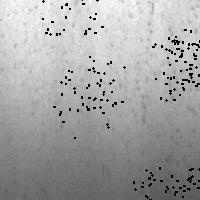pitted_surface: (4, 2, 130, 111), (136, 2, 198, 197), (53, 79, 109, 137), (65, 56, 123, 106), (152, 41, 200, 99), (42, 0, 101, 33), (168, 24, 200, 81), (165, 36, 200, 88), (145, 167, 198, 200), (133, 172, 190, 200), (174, 42, 200, 99)
